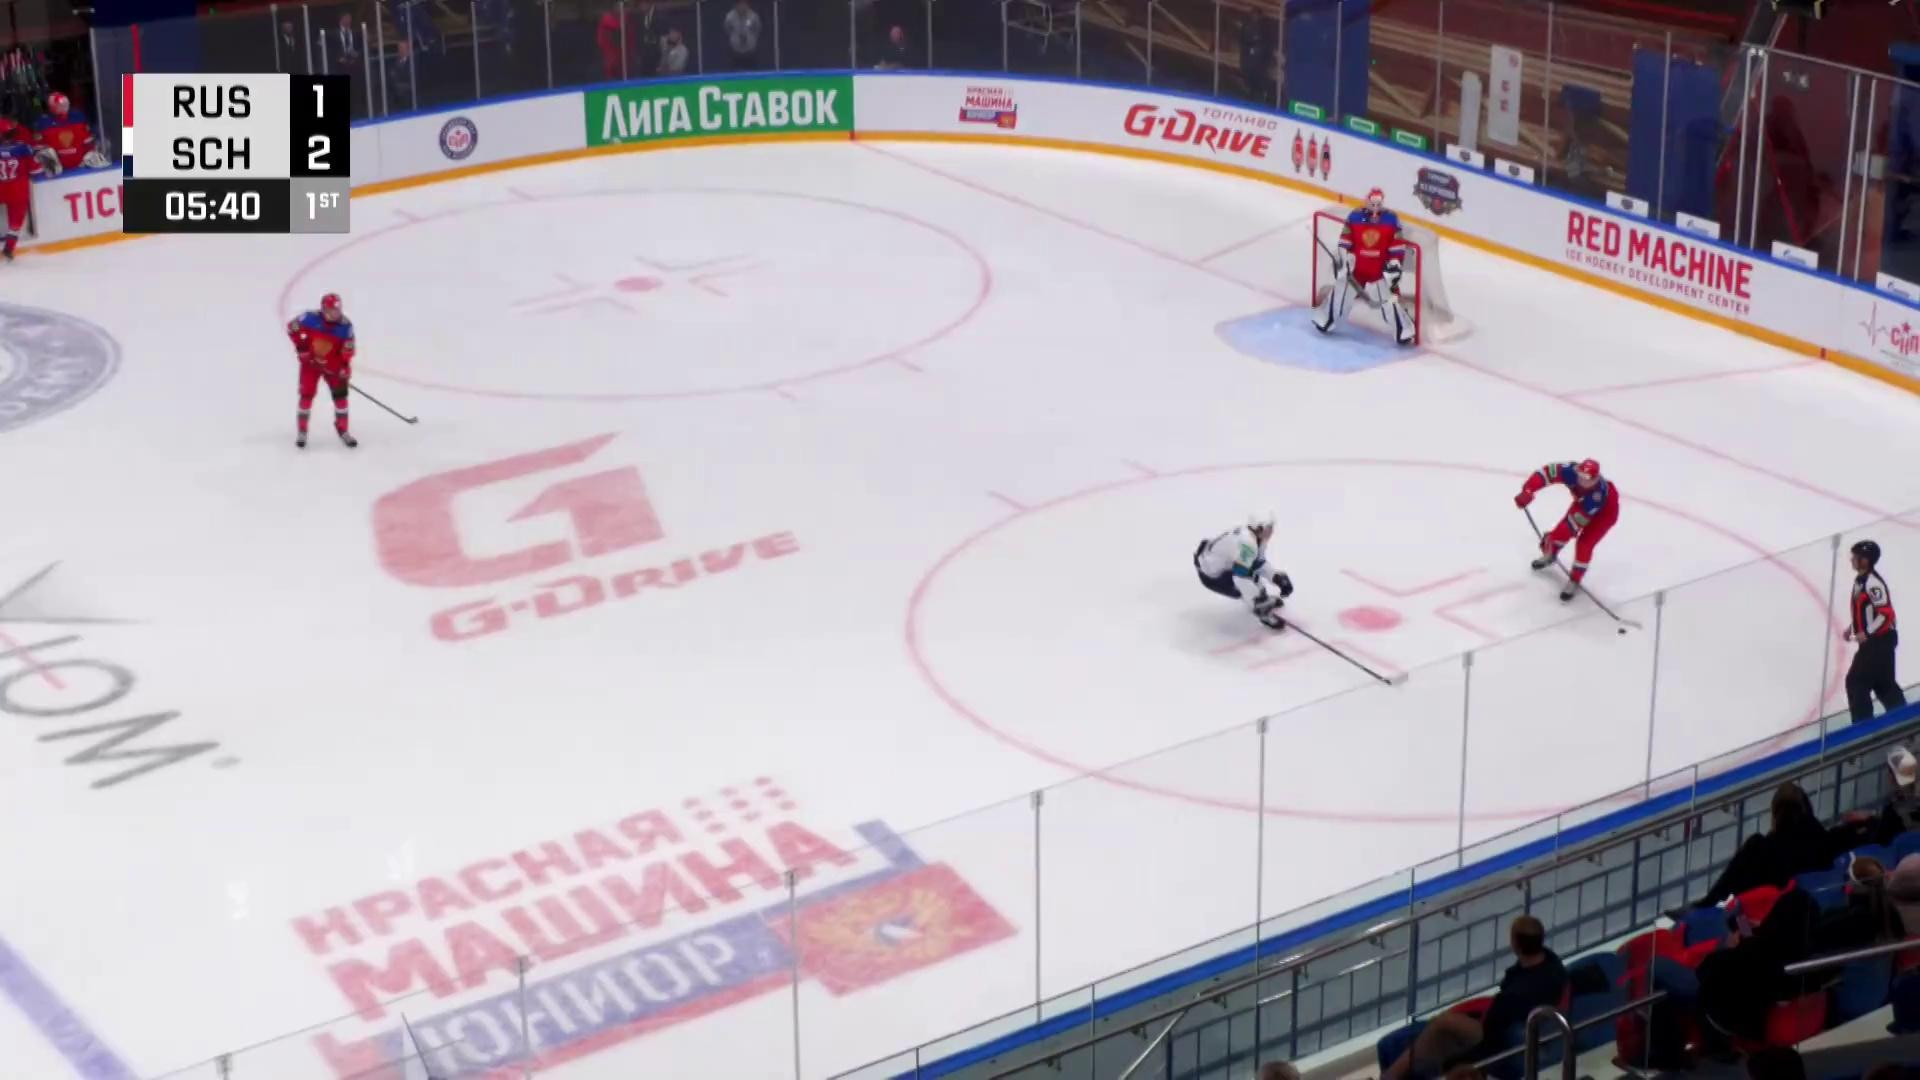ball: (1615, 628, 1627, 636)
